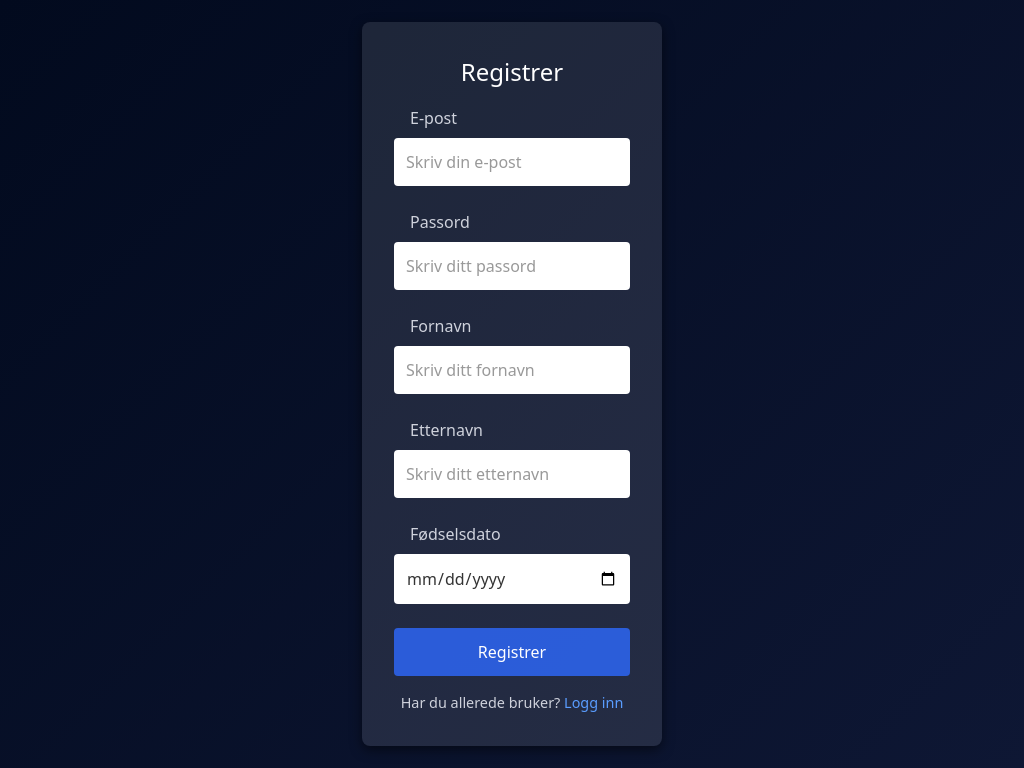
Scenario: displays error message on empty form submission
Click the button "Registrer" at [512, 652], box [394,628,630,676]
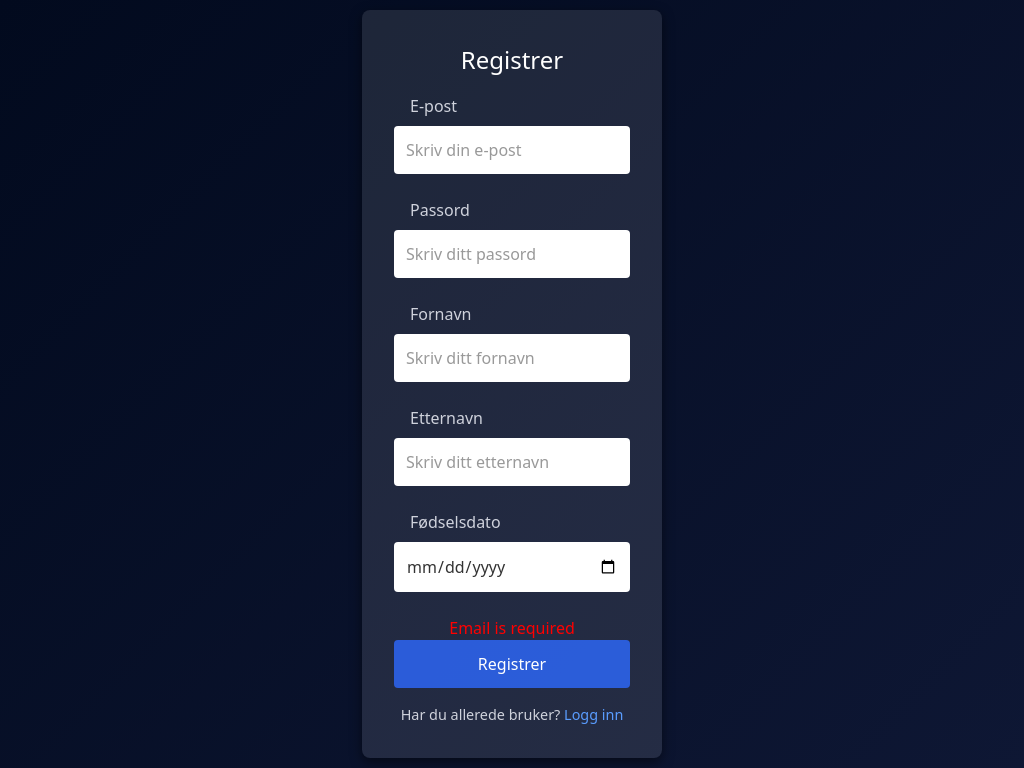
Check: the text "Email is required" is shown, box [449,617,575,639]
